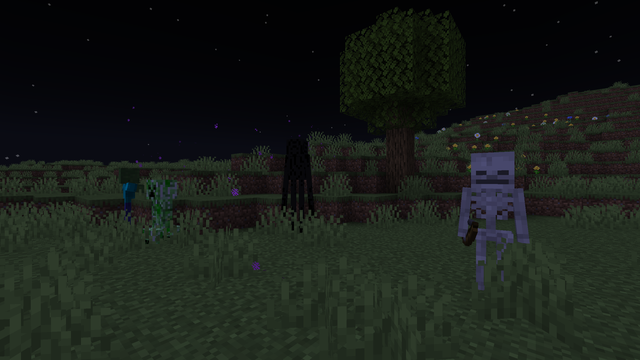creepers: (144, 176, 177, 245)
endermens: (283, 135, 311, 236)
squelettes: (463, 151, 517, 303)
zombies: (115, 169, 141, 229)
